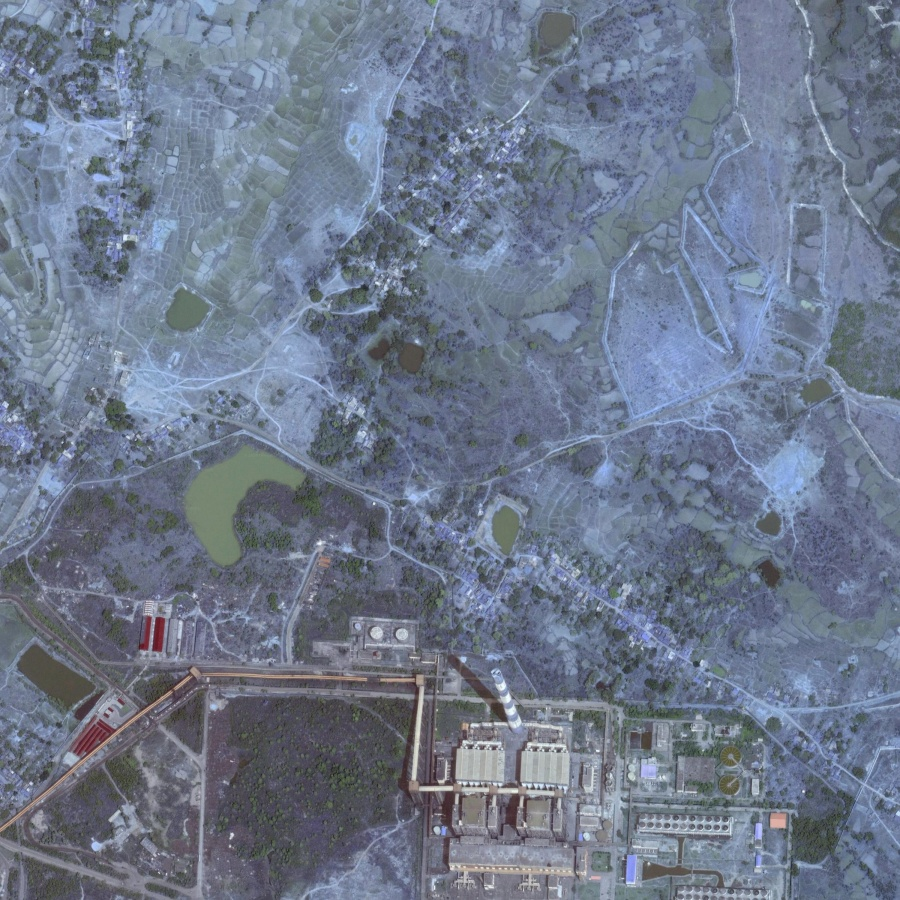PowerPlant: (422, 629, 576, 762)
